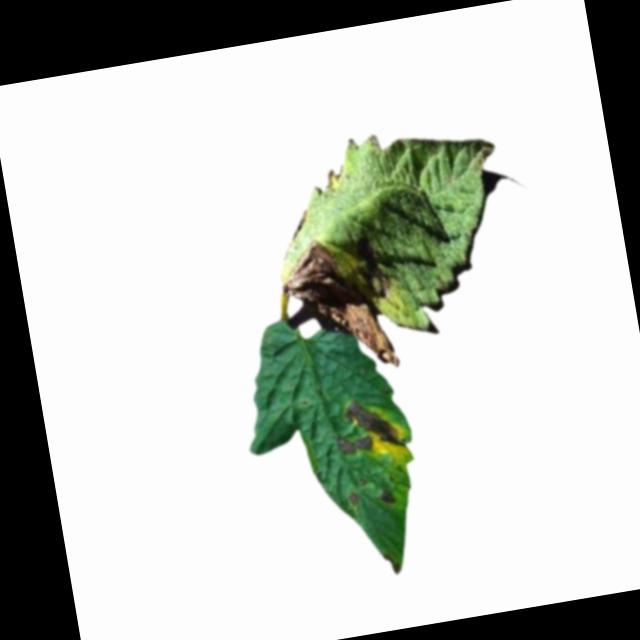Early_blight: (276, 227, 399, 384), (343, 392, 407, 457), (333, 431, 374, 458), (346, 491, 361, 511)
